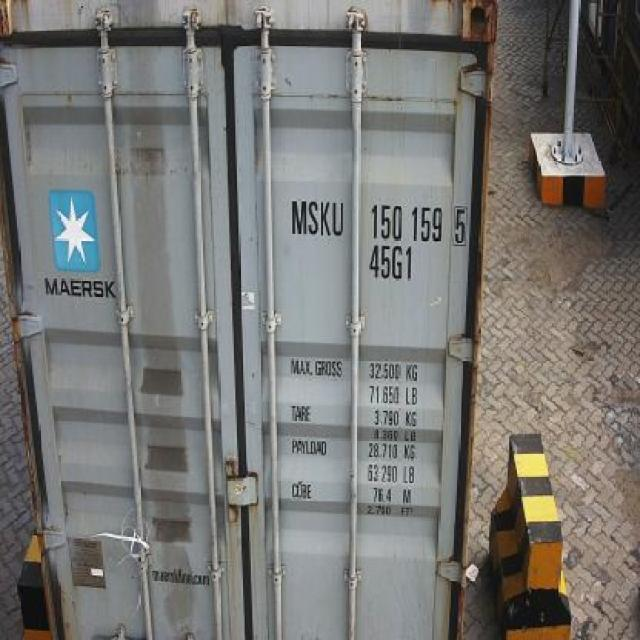ISO: (372, 247, 415, 279)
container_number: (293, 204, 470, 241)
